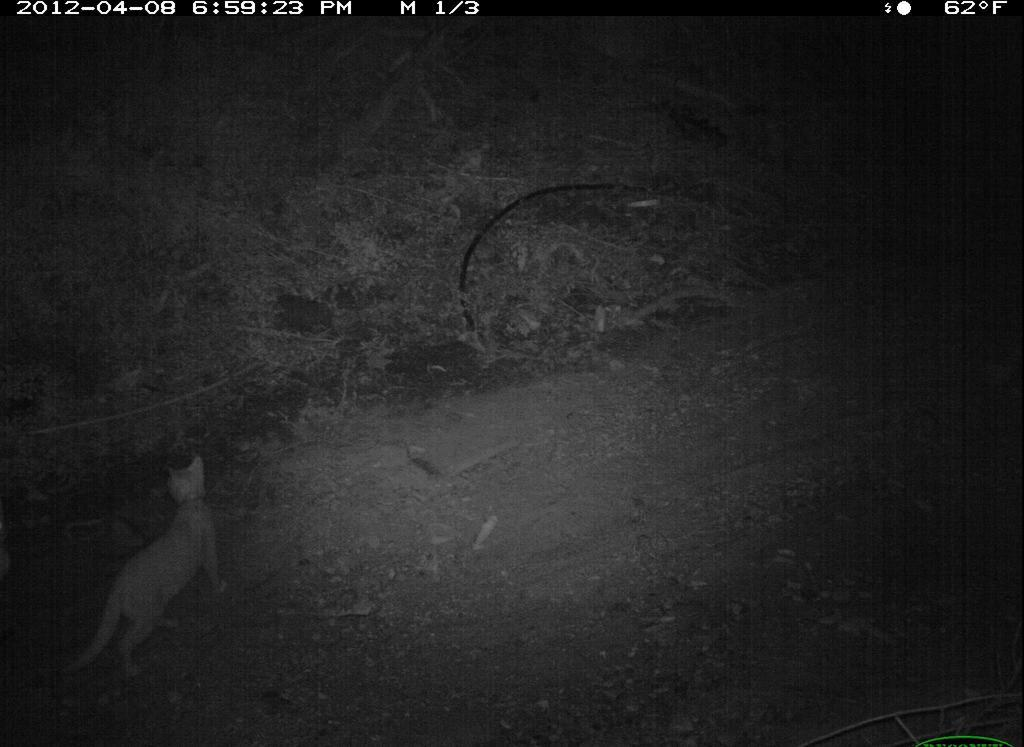cat: (68, 449, 240, 688)
